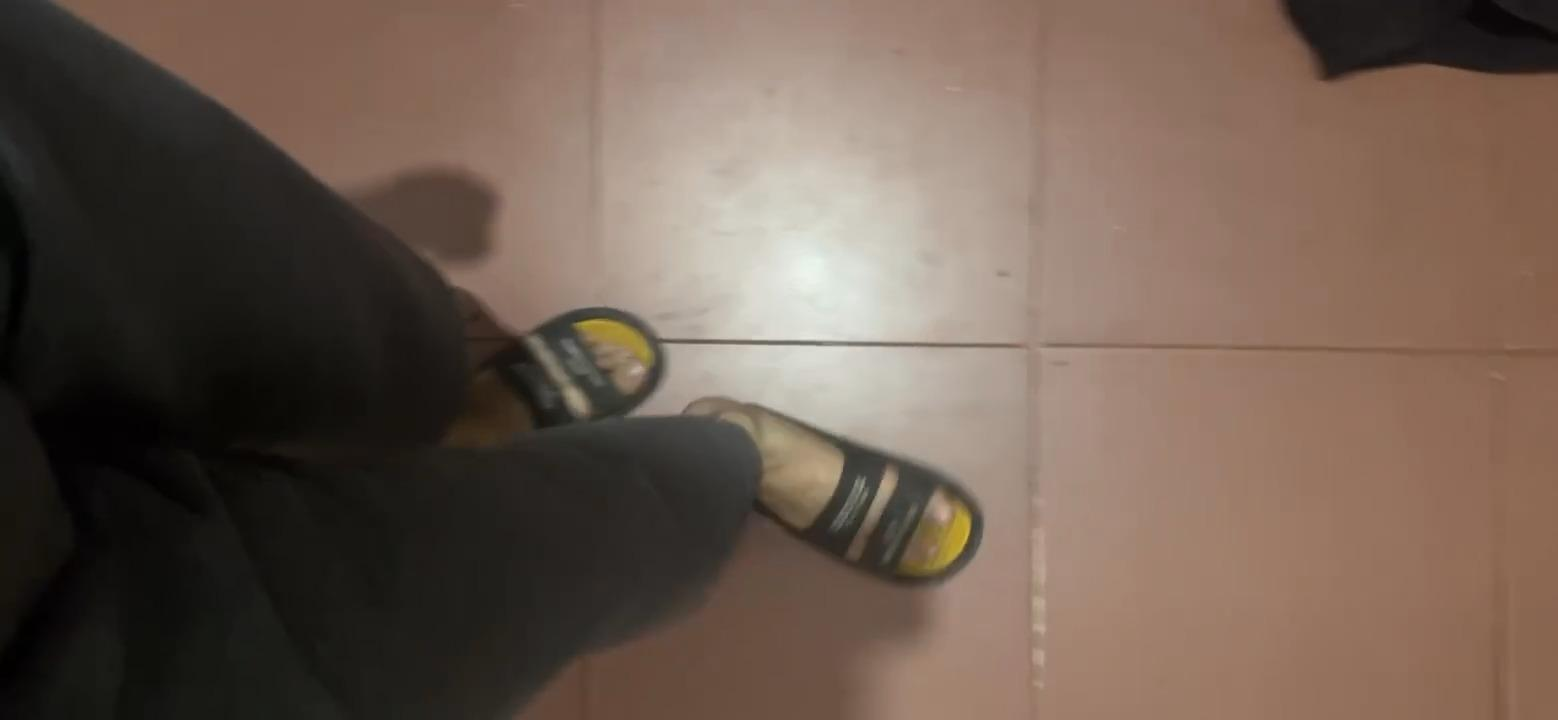no-boot: (683, 377, 999, 597)
